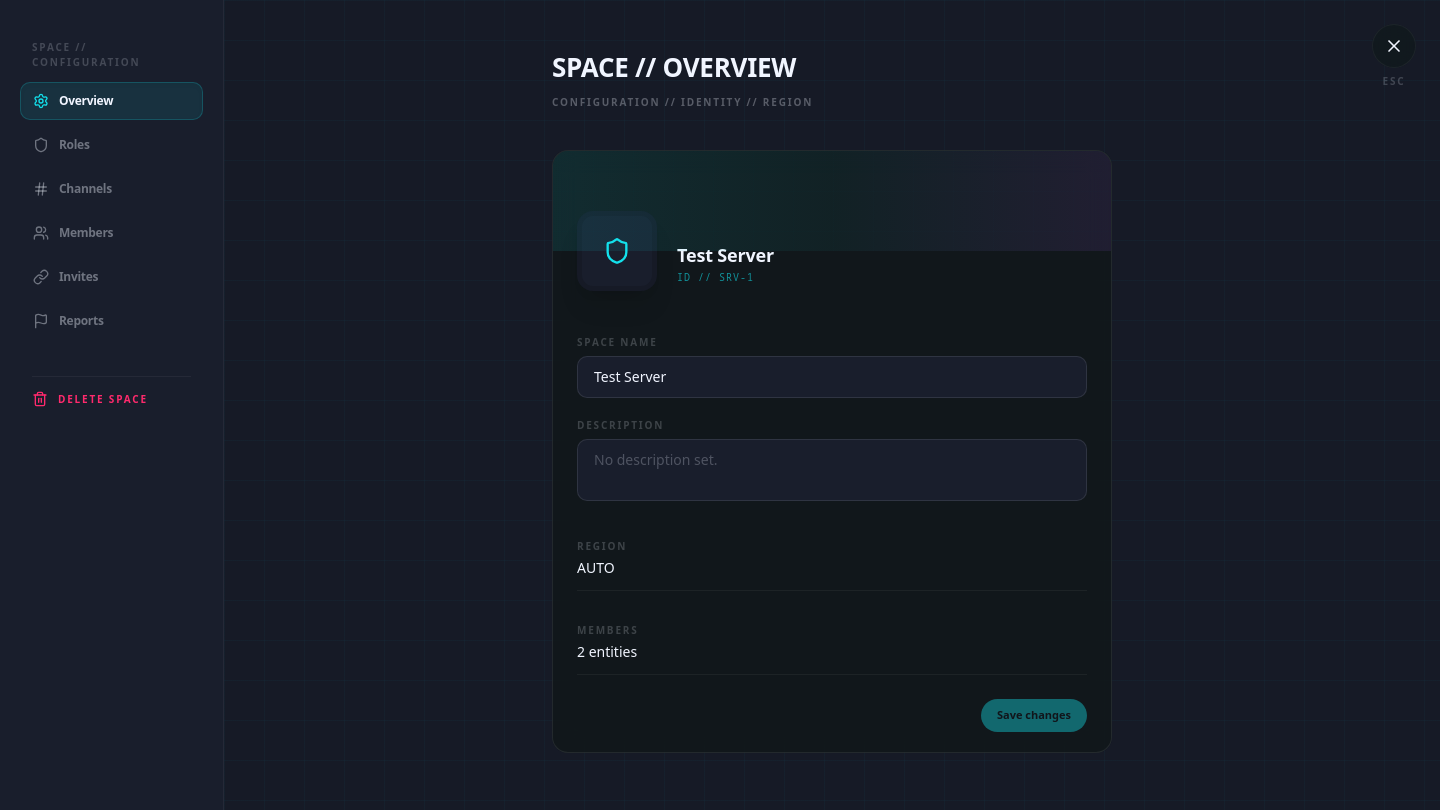
ServerSettingsScreen › keeps the first normalized category and channel when duplicate ids collide in admin state
Click the button "Channels" at (112, 189), box [20,170,203,208]
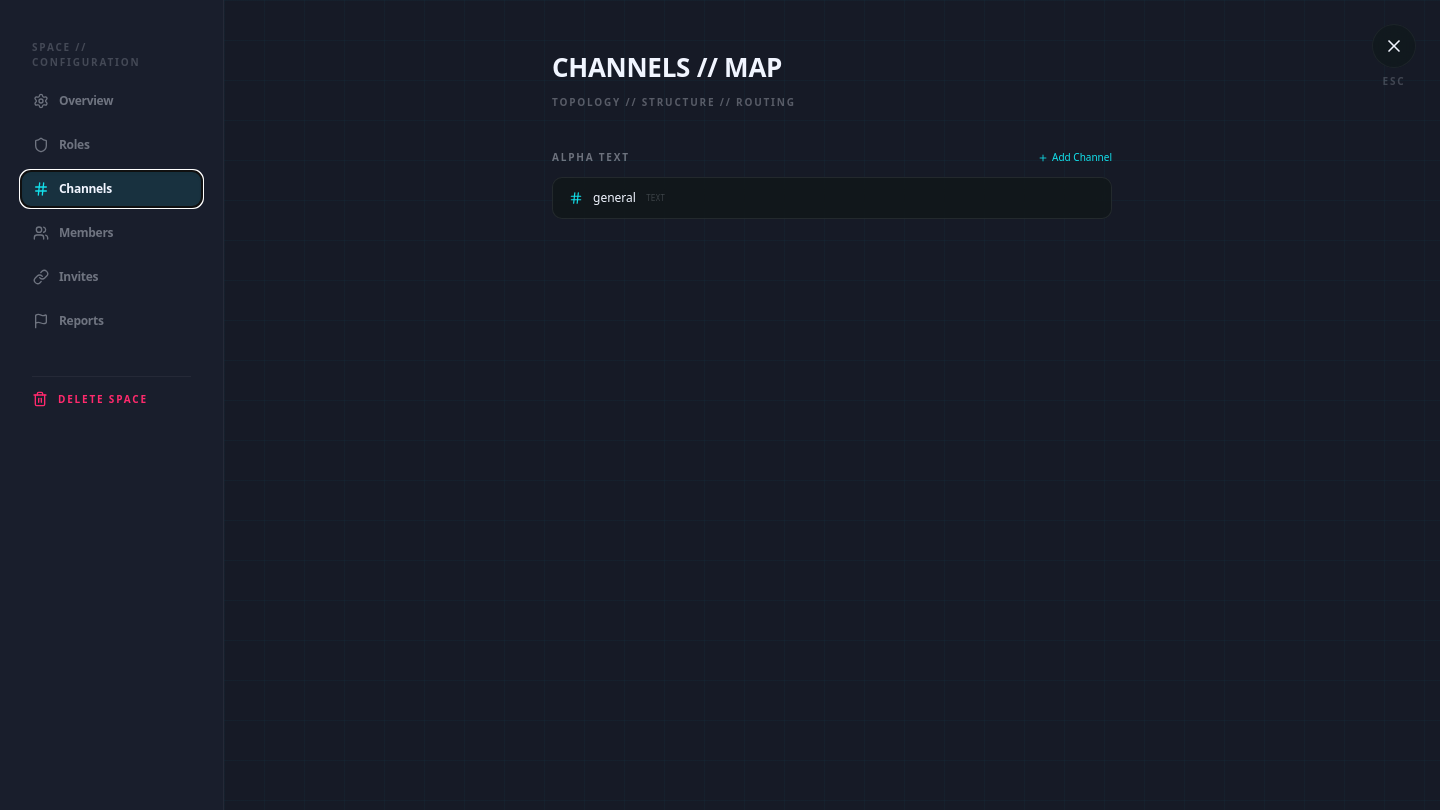
Expected: the text "Alpha Text" is shown, [552,150,630,165]
Expected: the field "Beta Text" is gone
Expected: the text "general" is shown once, [593,190,636,206]
